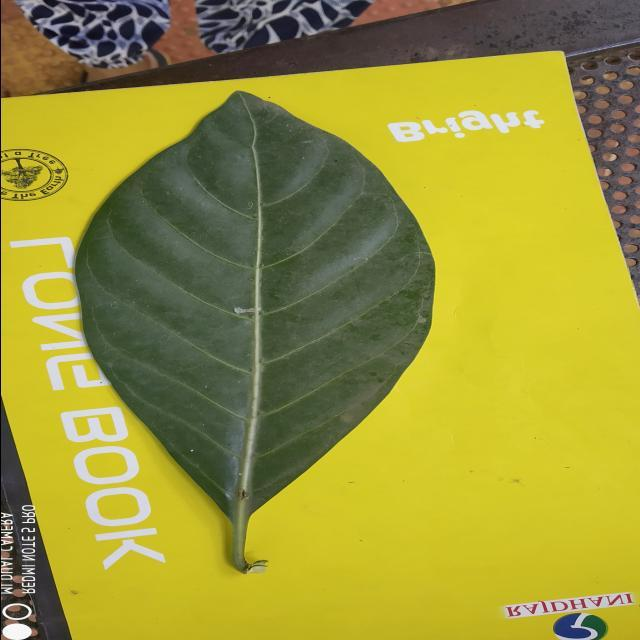leaf: (73, 89, 436, 573)
